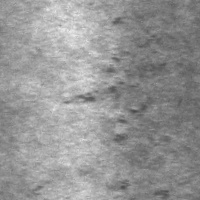rolled-in_scale: (93, 19, 171, 184)
